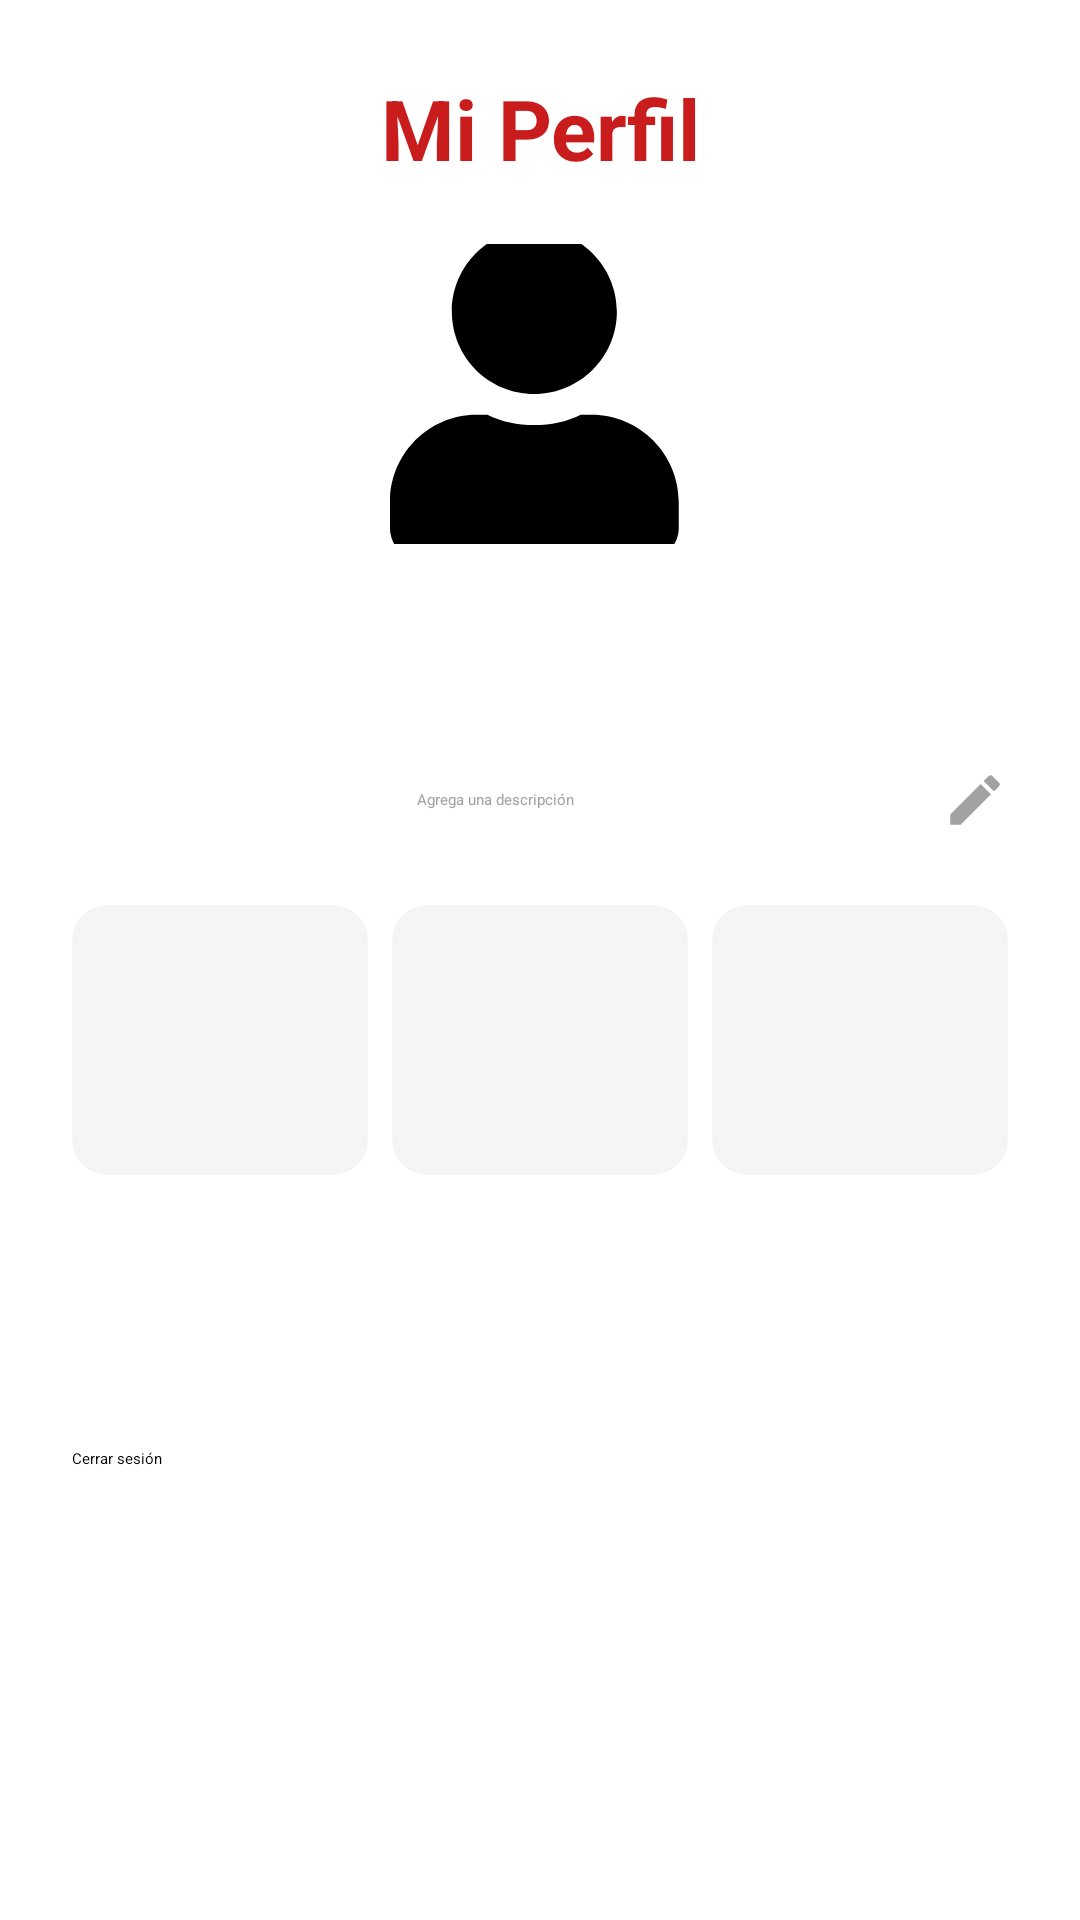

Icons on this 1080px×1920px Android screen, each with its box as (x1, y1, x2, y2):
edit: (950, 775, 1000, 825)
Foto de perfil: (390, 244, 679, 544)
